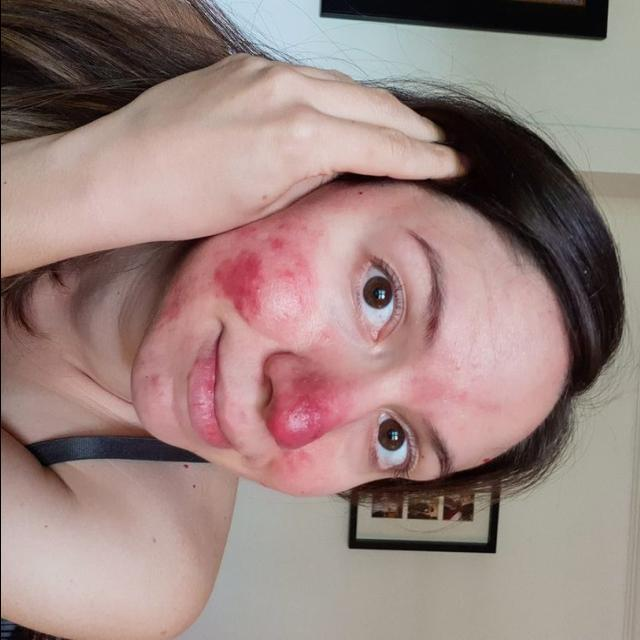Rosacea: (205, 236, 304, 311), (276, 372, 340, 445), (154, 288, 182, 332)
